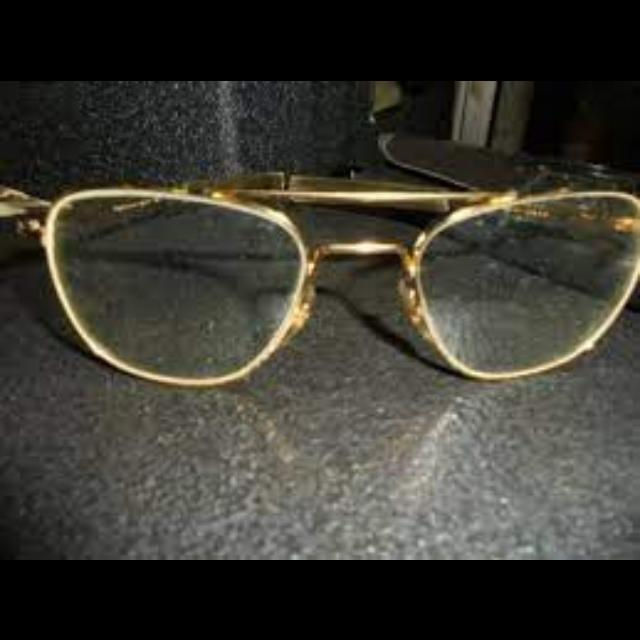sunglasses: (25, 178, 640, 386)
